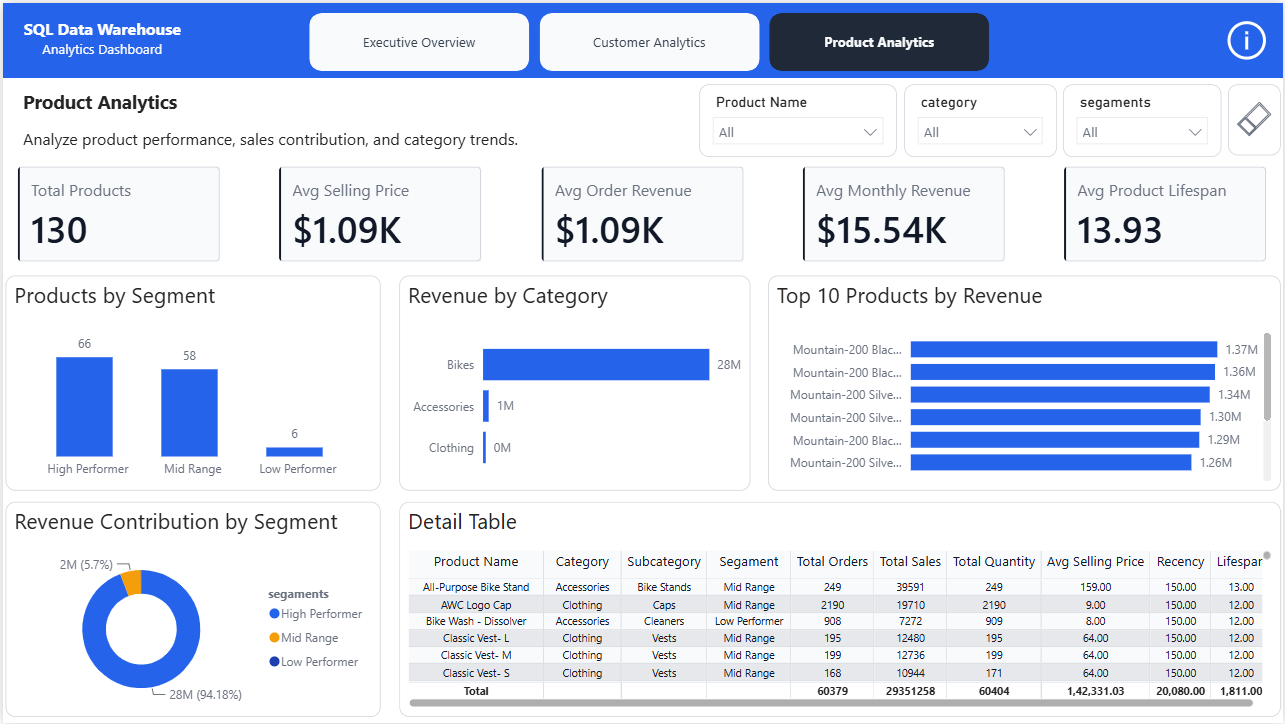

Layout of this report page (visuals, bound fields, positions):
{"tool":"powerbi","page":{"name":"Product Analytics","canvas":[1280,720],"ordinal":2},"visuals":[{"type":"shape","box":[0,0,1280,75],"z":0},{"type":"textbox","box":[9.7,81,194.2,36.2],"z":1000},{"type":"textbox","box":[10,120,652.5,33.8],"z":2000},{"type":"cardVisual","fields":{"Data":["_Measures.Report Total Products"]},"box":[10,159.4,212.5,105],"z":3000},{"type":"cardVisual","fields":{"Data":["_Measures.Report Avg Selling Price"]},"box":[271.6,159.4,212.5,105],"z":4000},{"type":"cardVisual","fields":{"Data":["_Measures.Report Avg Order Revenue"]},"box":[533.1,159.4,212.5,105],"z":5000},{"type":"cardVisual","fields":{"Data":["_Measures.Report Avg Monthly Revenue"]},"box":[794.7,159.4,212.5,105],"z":6000},{"type":"cardVisual","fields":{"Data":["_Measures.Report Avg Product Lifespan"]},"box":[1056.2,159.4,212.5,105],"z":7000},{"type":"clusteredColumnChart","title":"Products by Segment","fields":{"Category":["Product Report.product_segaments"],"Y":["CountNonNull(Product Report.product_key)"]},"box":[2.5,272.5,375,215],"z":8000},{"type":"donutChart","title":"Revenue Contribution by Segment","fields":{"Category":["Product Report.product_segaments"],"Y":["Sum(Product Report.total_sales)"]},"box":[2.5,498.8,375,215],"z":9000},{"type":"clusteredBarChart","title":"Revenue by Category","fields":{"Category":["Product Report.category"],"Y":["Sum(Product Report.total_sales)"]},"box":[395.6,272.5,351.2,215],"z":10000},{"type":"tableEx","title":"Detail Table","fields":{"Values":["Product Report.product_name","Product Report.category","Product Report.subcategory","Product Report.product_segaments","Sum(Product Report.total_orders)","Sum(Product Report.total_sales)","Sum(Product Report.total_quantity)","Sum(Product Report.avg_selling_price)","Sum(Product Report.recency)","Sum(Product Report.lifespan)"]},"box":[396.2,498.8,881.2,215],"z":11000},{"type":"slicer","fields":{"Values":["Product Report.product_segaments"]},"box":[1060,81.2,158.8,72.5],"z":12000},{"type":"actionButton","box":[1225,81.5,52.5,71.2],"z":13000},{"type":"pageNavigator","box":[306,10,682,58],"z":14000},{"type":"textbox","box":[10,10,178.8,58.8],"z":15000},{"type":"actionButton","box":[1218.8,10,50,55],"z":16000},{"type":"clusteredBarChart","title":"Top 10 Products by Revenue","fields":{"Category":["Product Report.product_name"],"Y":["Sum(Product Report.total_sales)"]},"box":[765,272.5,512.5,215],"z":17000},{"type":"slicer","fields":{"Values":["Product Report.category"]},"box":[901.2,81.2,152.5,72.5],"z":18000},{"type":"slicer","fields":{"Values":["Product Report.product_name"]},"box":[696.2,81.2,197.5,72.5],"z":19000}]}

Visuals, with their boxes in screenshot pixels (x1, y1, x2, y2), scaled from the page's 1280x720 canvas onto the 1285x724 screenshot:
shape: [x1=0, y1=0, x2=1284, y2=75]
textbox: [x1=10, y1=81, x2=205, y2=118]
textbox: [x1=10, y1=121, x2=665, y2=155]
cardVisual - _Measures.Report Total Products: [x1=10, y1=160, x2=223, y2=266]
cardVisual - _Measures.Report Avg Selling Price: [x1=273, y1=160, x2=486, y2=266]
cardVisual - _Measures.Report Avg Order Revenue: [x1=535, y1=160, x2=749, y2=266]
cardVisual - _Measures.Report Avg Monthly Revenue: [x1=798, y1=160, x2=1011, y2=266]
cardVisual - _Measures.Report Avg Product Lifespan: [x1=1060, y1=160, x2=1274, y2=266]
"Products by Segment" clusteredColumnChart: [x1=3, y1=274, x2=379, y2=490]
"Revenue Contribution by Segment" donutChart: [x1=3, y1=502, x2=379, y2=718]
"Revenue by Category" clusteredBarChart: [x1=397, y1=274, x2=750, y2=490]
"Detail Table" tableEx: [x1=398, y1=502, x2=1282, y2=718]
slicer - Product Report.product_segaments: [x1=1064, y1=82, x2=1224, y2=155]
actionButton: [x1=1230, y1=82, x2=1282, y2=154]
pageNavigator: [x1=307, y1=10, x2=992, y2=68]
textbox: [x1=10, y1=10, x2=190, y2=69]
actionButton: [x1=1224, y1=10, x2=1274, y2=65]
"Top 10 Products by Revenue" clusteredBarChart: [x1=768, y1=274, x2=1282, y2=490]
slicer - Product Report.category: [x1=905, y1=82, x2=1058, y2=155]
slicer - Product Report.product_name: [x1=699, y1=82, x2=897, y2=155]
